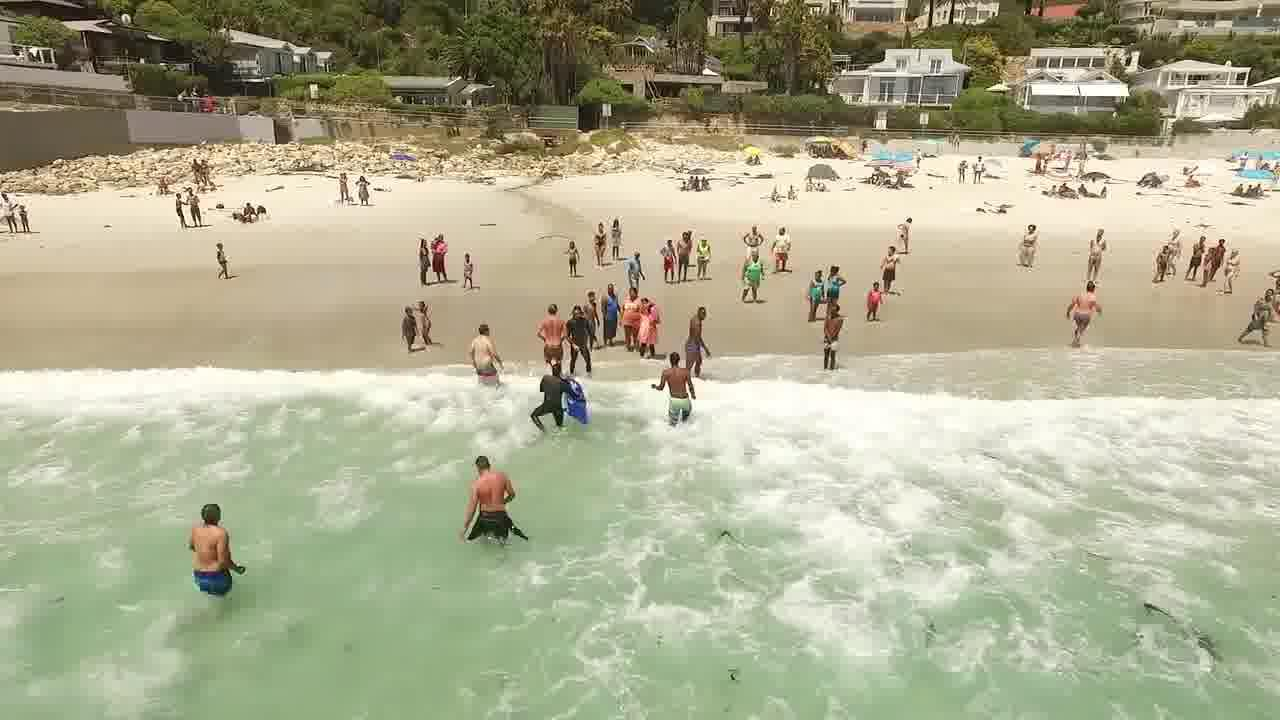swimmer: (174, 499, 272, 616), (464, 451, 515, 570), (655, 350, 708, 430), (680, 308, 733, 372), (1062, 278, 1105, 347), (531, 362, 574, 427), (817, 305, 854, 365), (466, 324, 506, 370), (570, 308, 604, 360), (537, 306, 567, 357)
